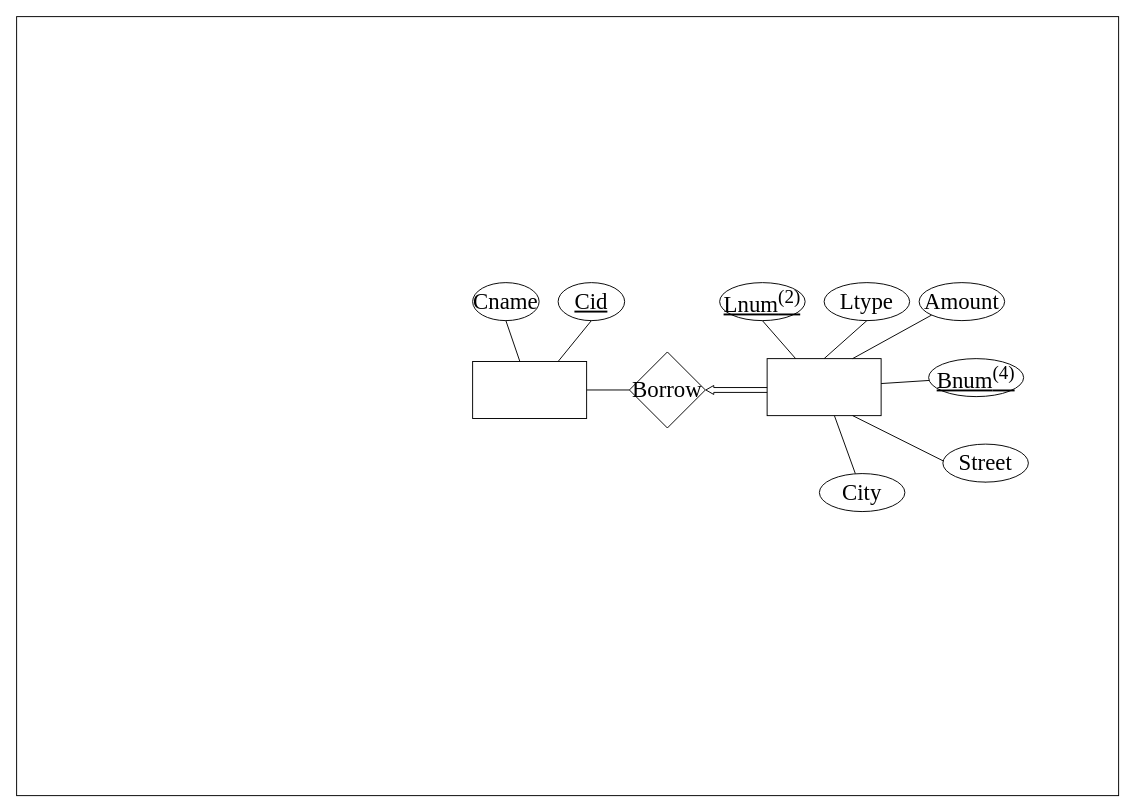
Image size: 1135x812. Some labels were removed from this diagram. Each missing label, with the centre of its shape:
"Customer" belongs at point 529,389.
"Loan" belongs at point 823,387.
